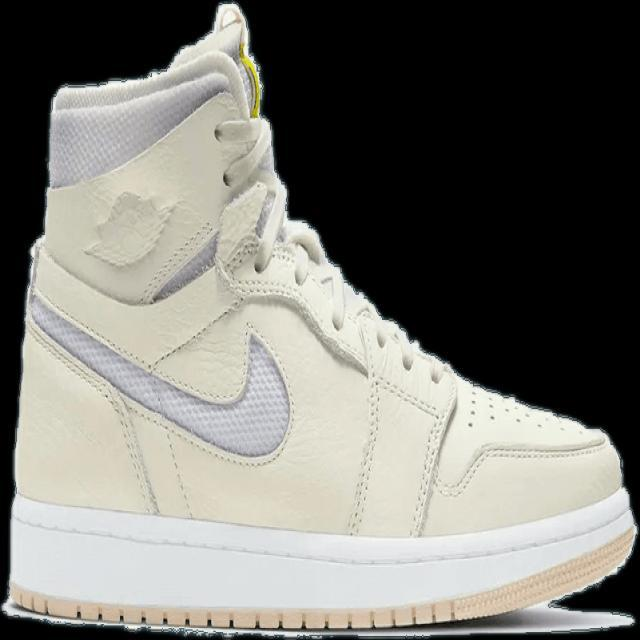J1_InsoleChar: (2, 2, 636, 633)
J1_ShoeLogo: (82, 188, 175, 268)
J1_StitchPattern: (24, 198, 590, 539), (220, 211, 459, 535), (4, 521, 636, 632), (25, 287, 294, 515), (24, 298, 163, 517), (5, 586, 632, 632), (343, 308, 458, 537), (345, 310, 386, 536), (408, 394, 456, 537)
